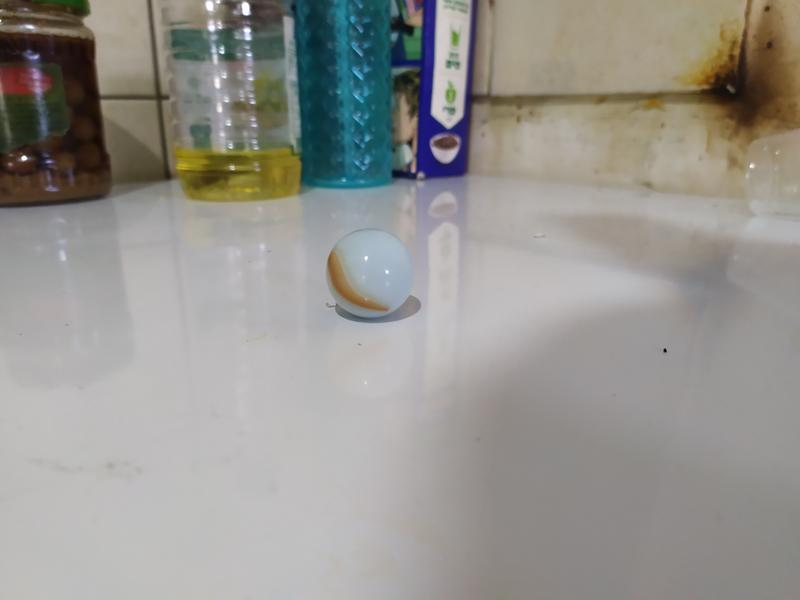Warning: (323, 224, 417, 323)
